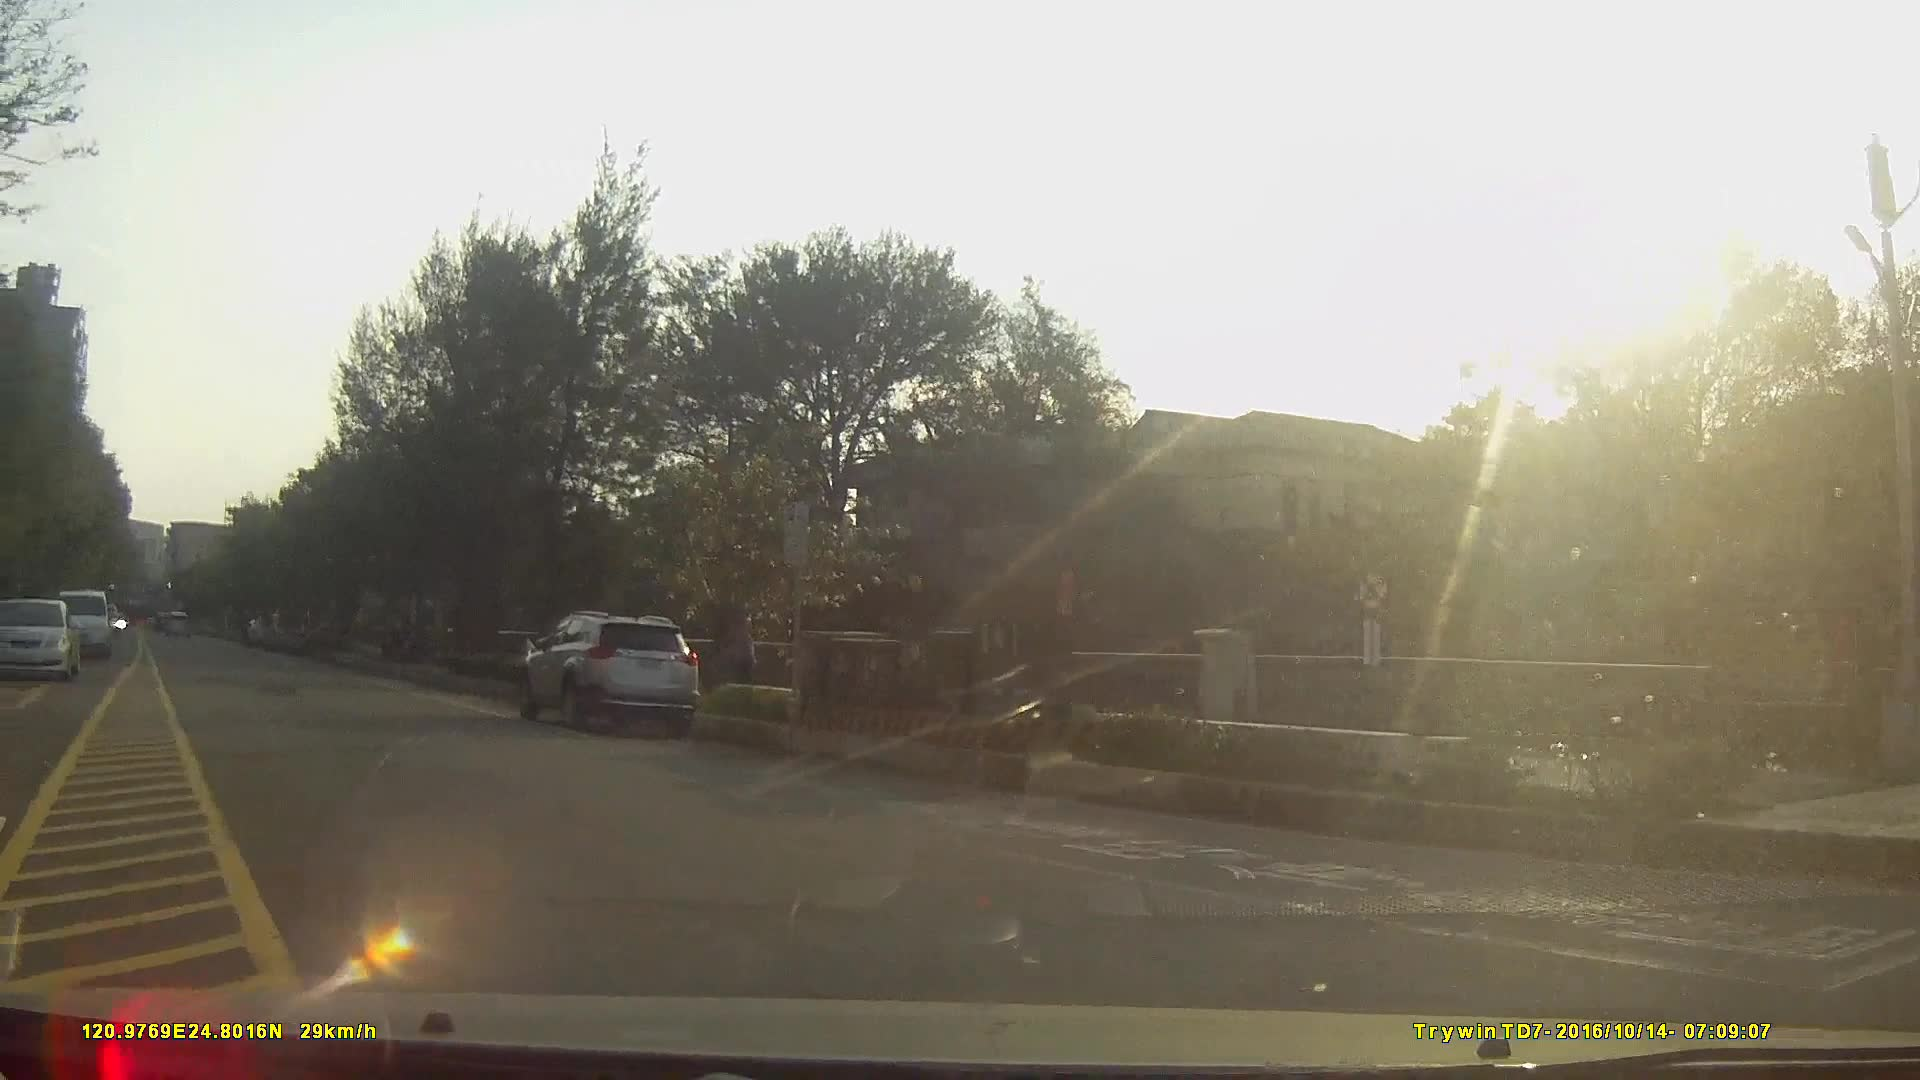vehicle: (516, 613, 703, 736), (0, 597, 73, 682), (57, 591, 112, 665), (258, 607, 313, 654)
